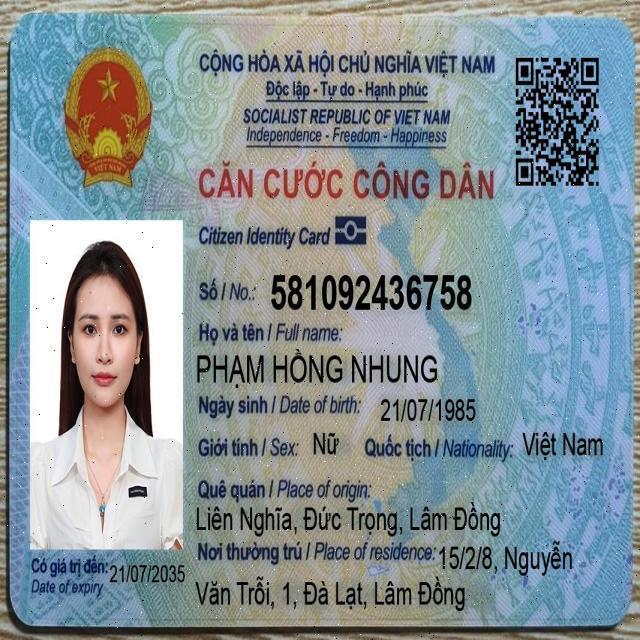current_place: (193, 574, 469, 614), (436, 536, 578, 580)
dob: (374, 389, 479, 428)
expire_date: (106, 557, 189, 589)
gender: (309, 423, 341, 462)
id: (267, 266, 476, 318)
name: (192, 342, 442, 389)
nationality: (518, 423, 607, 466)
origin_place: (192, 498, 504, 540)
